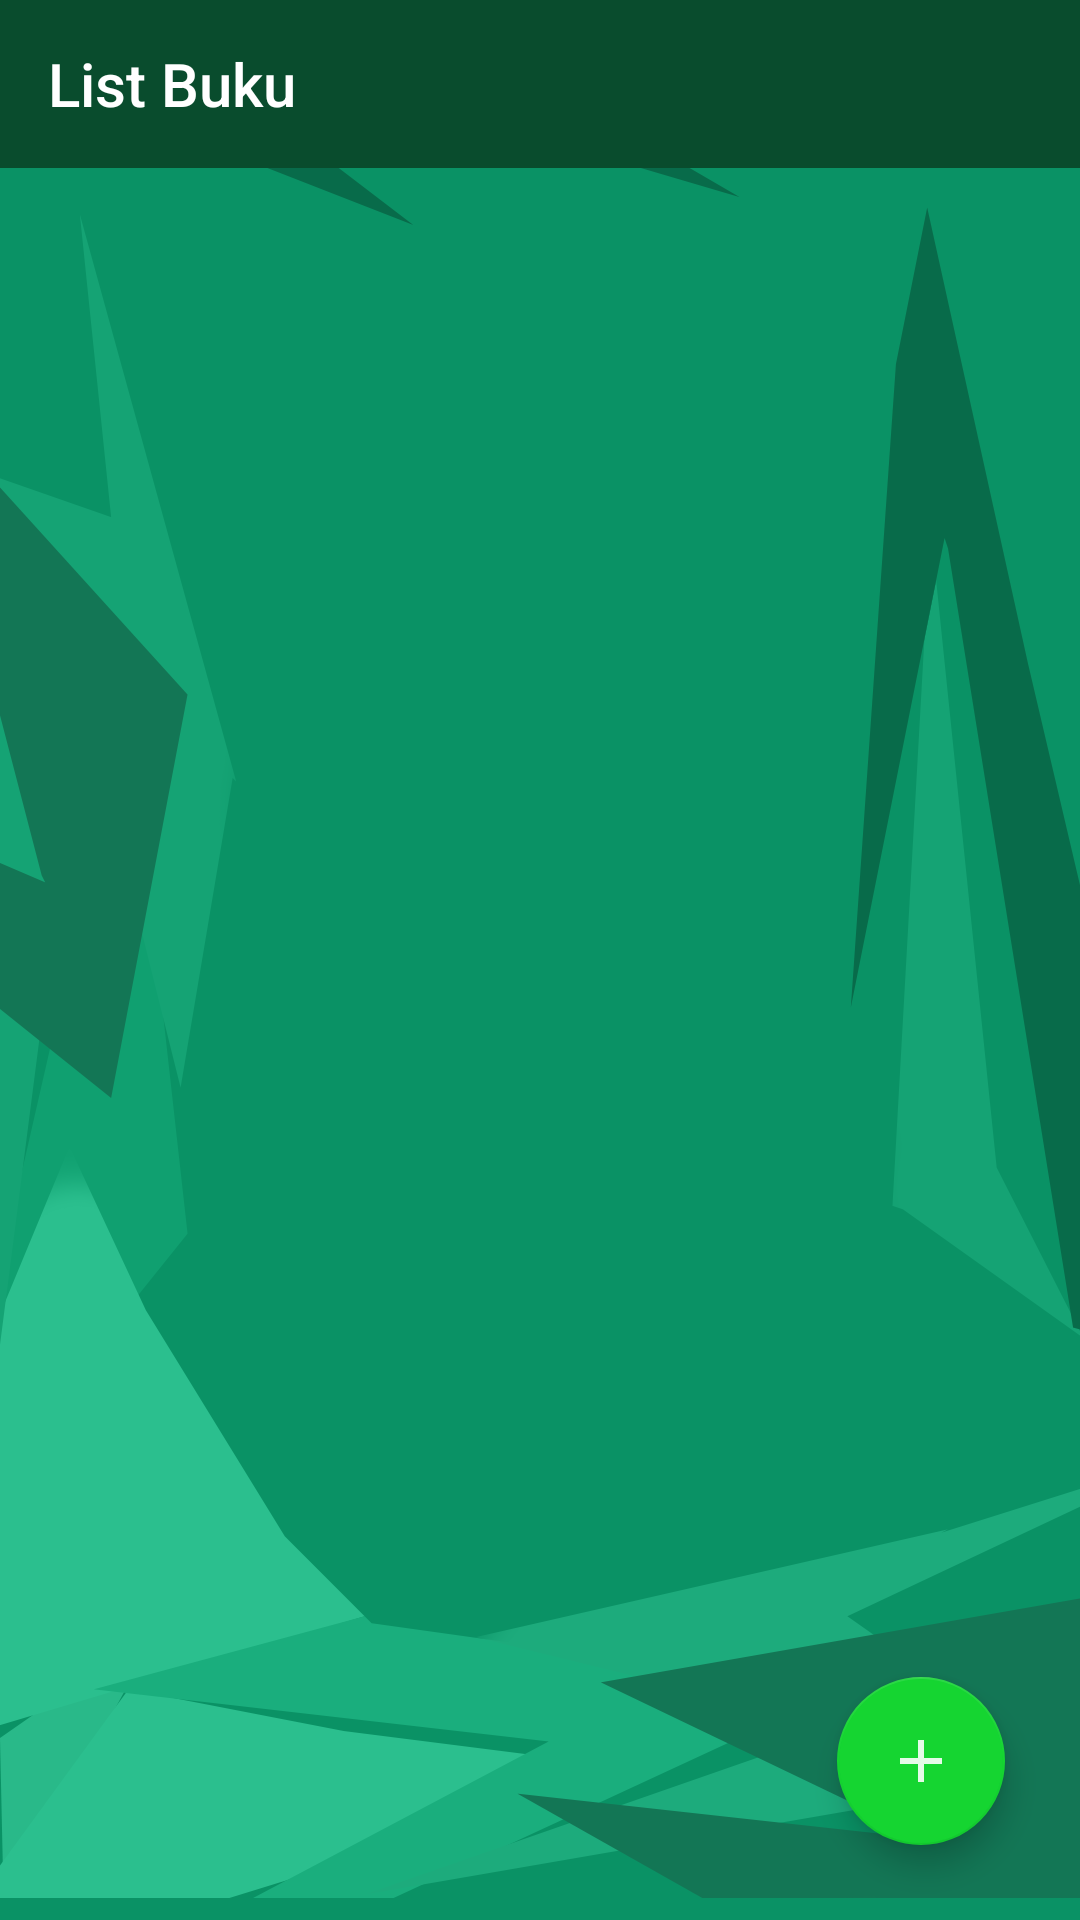

Where to tap for icons on this 1080px x 1920px app screen, as (x,y):
add: (921,1761)
